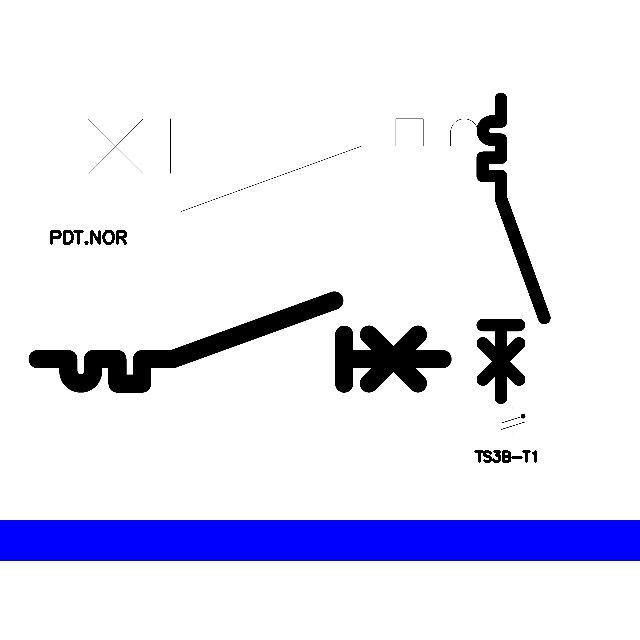interruptor_termomagnetico: (49, 107, 524, 223), (27, 290, 452, 394), (475, 91, 552, 405)
